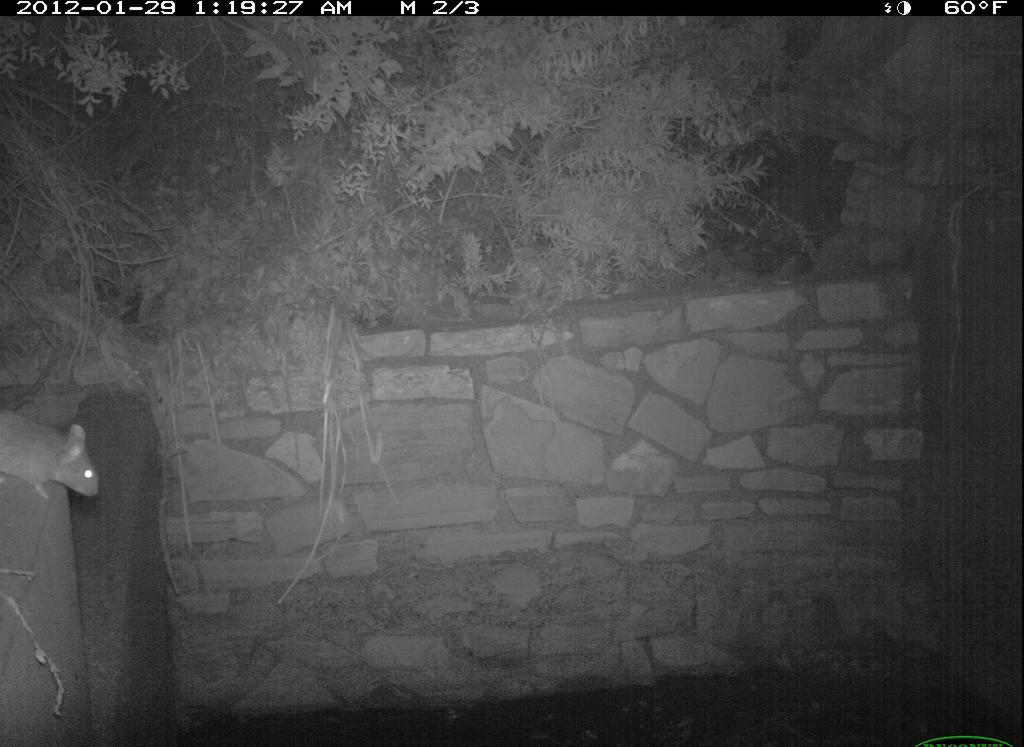rodent: (1, 400, 111, 504)
